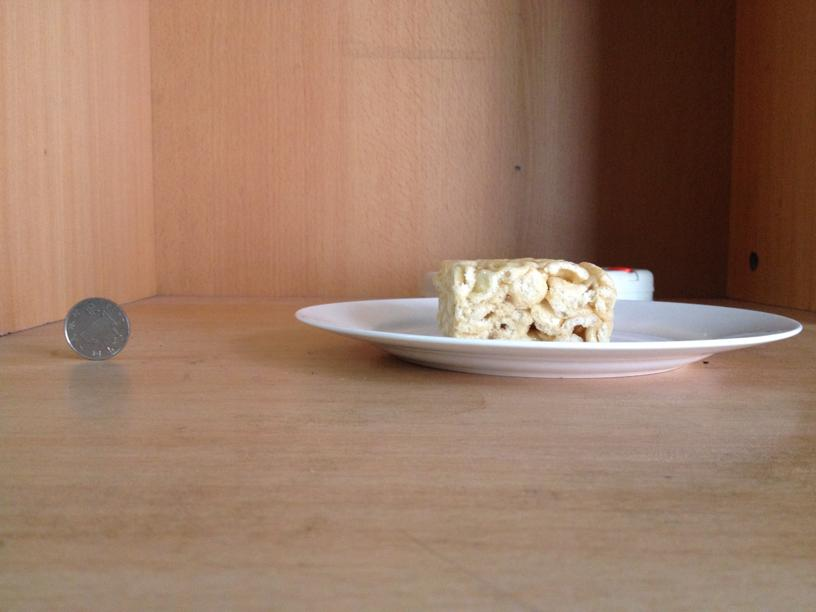coin: (66, 296, 127, 359)
sachima: (435, 257, 611, 344)
